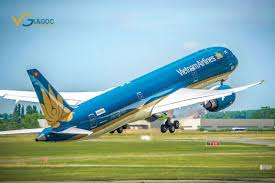maybay_dansu: (5, 43, 263, 143)
